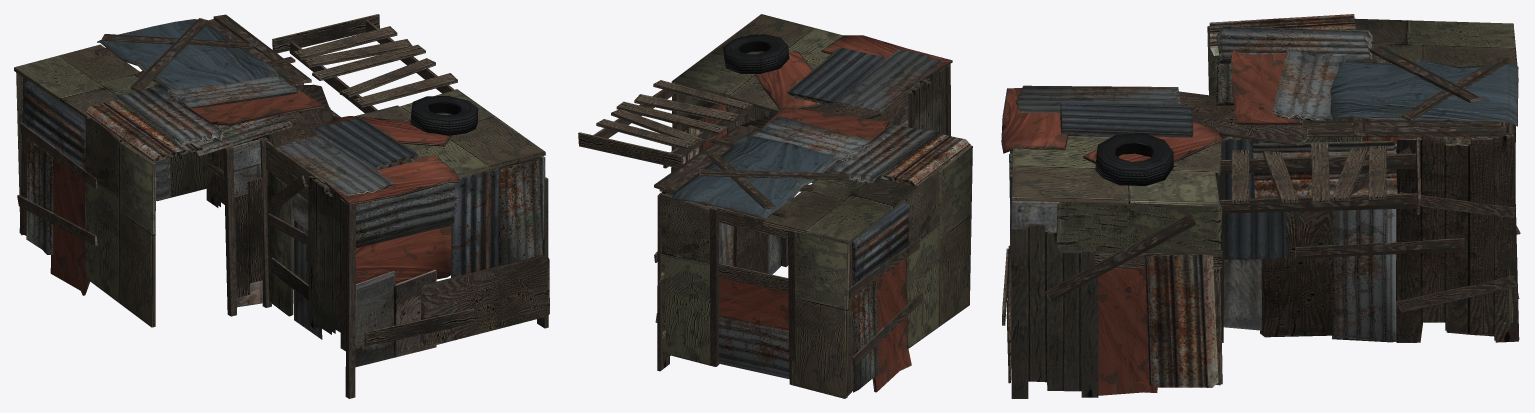
Rendered from number4.fbx.
3 renders of one model, left to right at view 1: azimuth 30°, elevation 25°; view 2: azimuth 150°, elevation 25°; view 3: azimuth 270°, elevation 25°, orthographic. The views are drawn at different scales.
Parts seen in each view (by area): view 1: walls, roof; view 2: walls, roof; view 3: walls, roof.
Boxes of the visible parts, x1,y1,x2,y2 form: walls: [16, 19, 549, 398]; roof: [14, 14, 545, 205]; walls: [654, 64, 972, 398]; roof: [578, 14, 970, 244]; walls: [1002, 26, 1520, 398]; roof: [1001, 14, 1518, 258].
Size of the model in its own units: 435 by 278 by 527.
